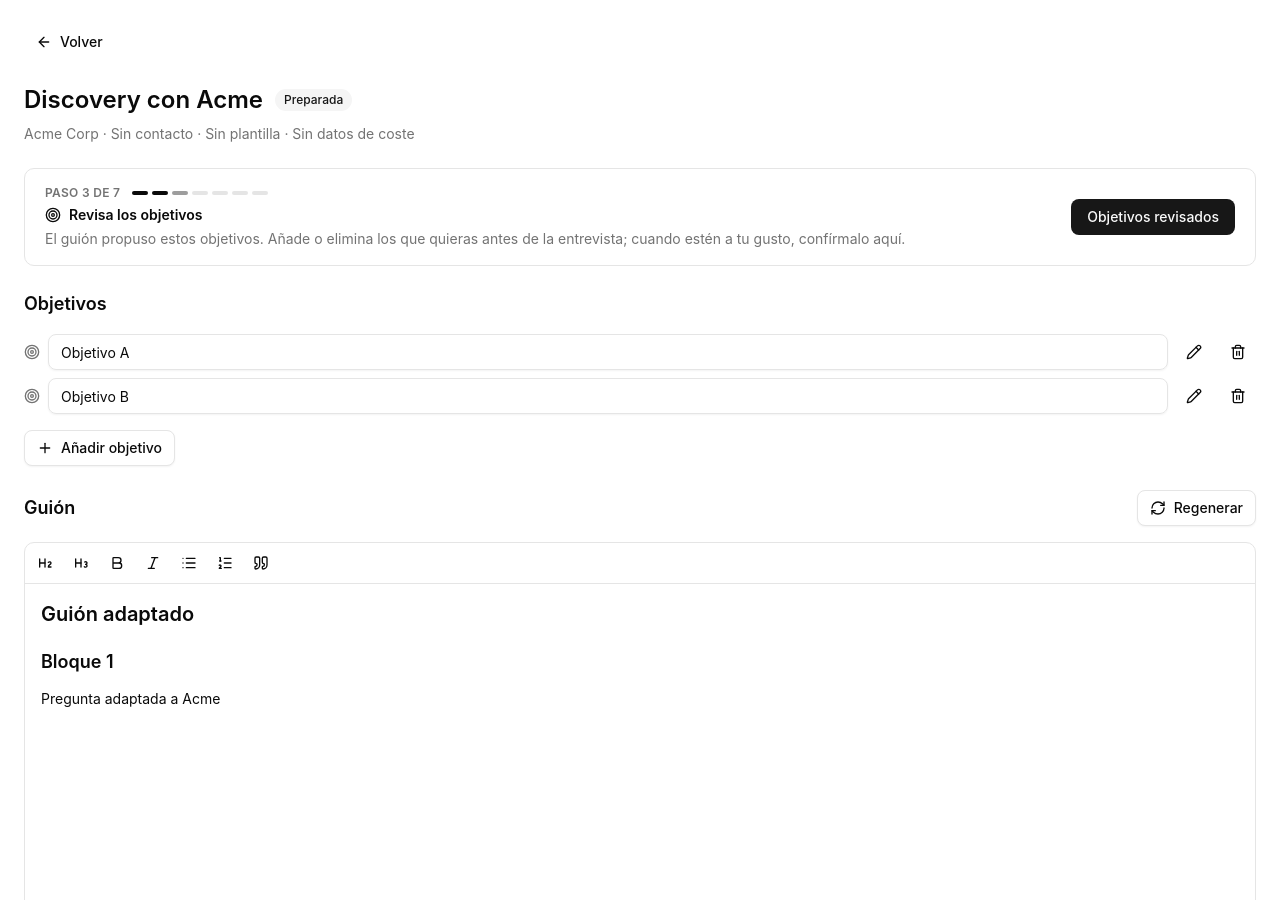
Test: ScriptSection › always-on editing (SPEC-029) › saves only the script markdown via updateInterview without status or objectives, and hides the bar keeping the editor
The width and height of the screenshot is (1280, 900).
# Cambio real vía toolbar: el primer bloque (h1) pasa a Encabezado 3
Click the button named "Encabezado 3".
click(81, 563)  # box [65,547,97,579]
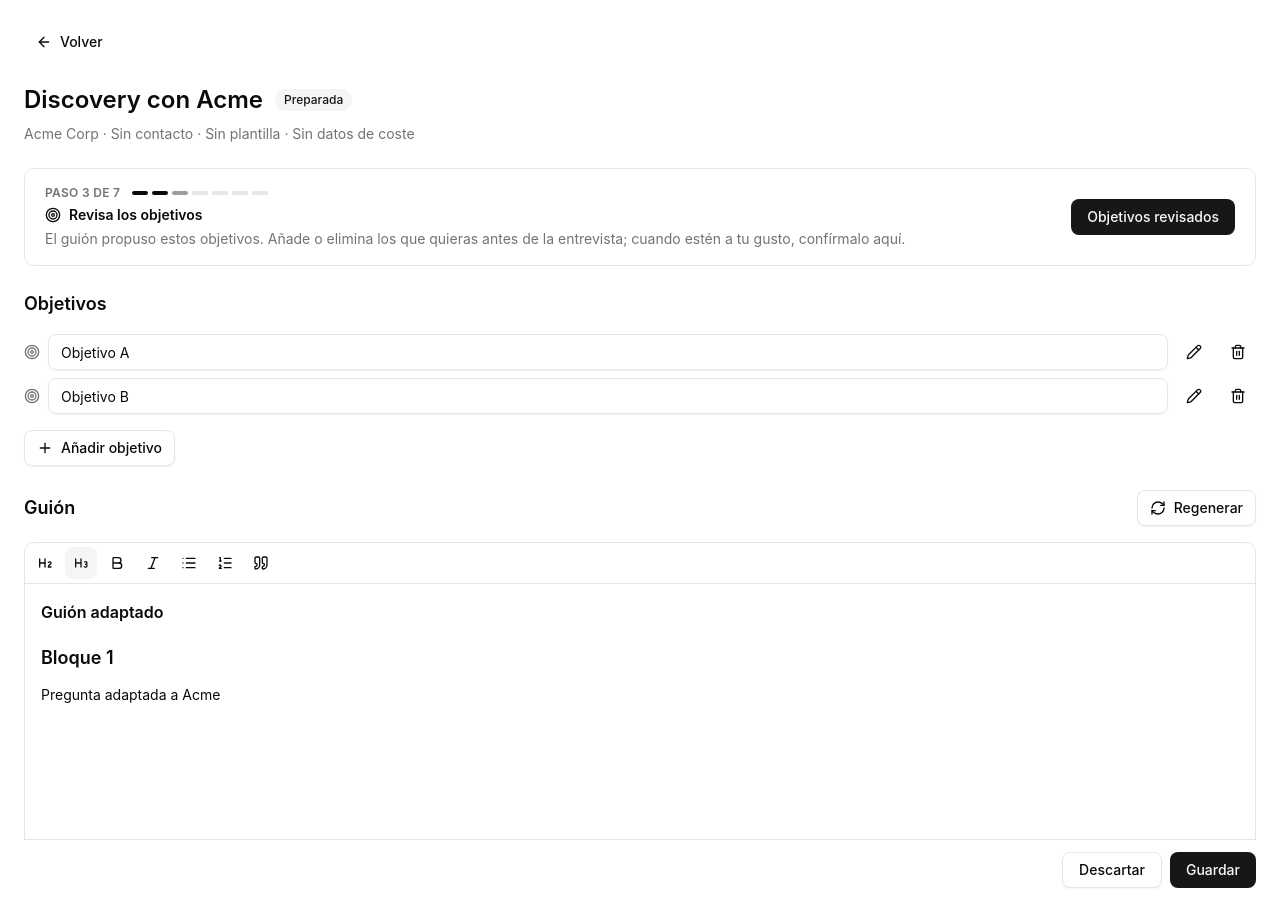
Click the button "Guardar".
click(1213, 870)  # box [1170,852,1256,888]
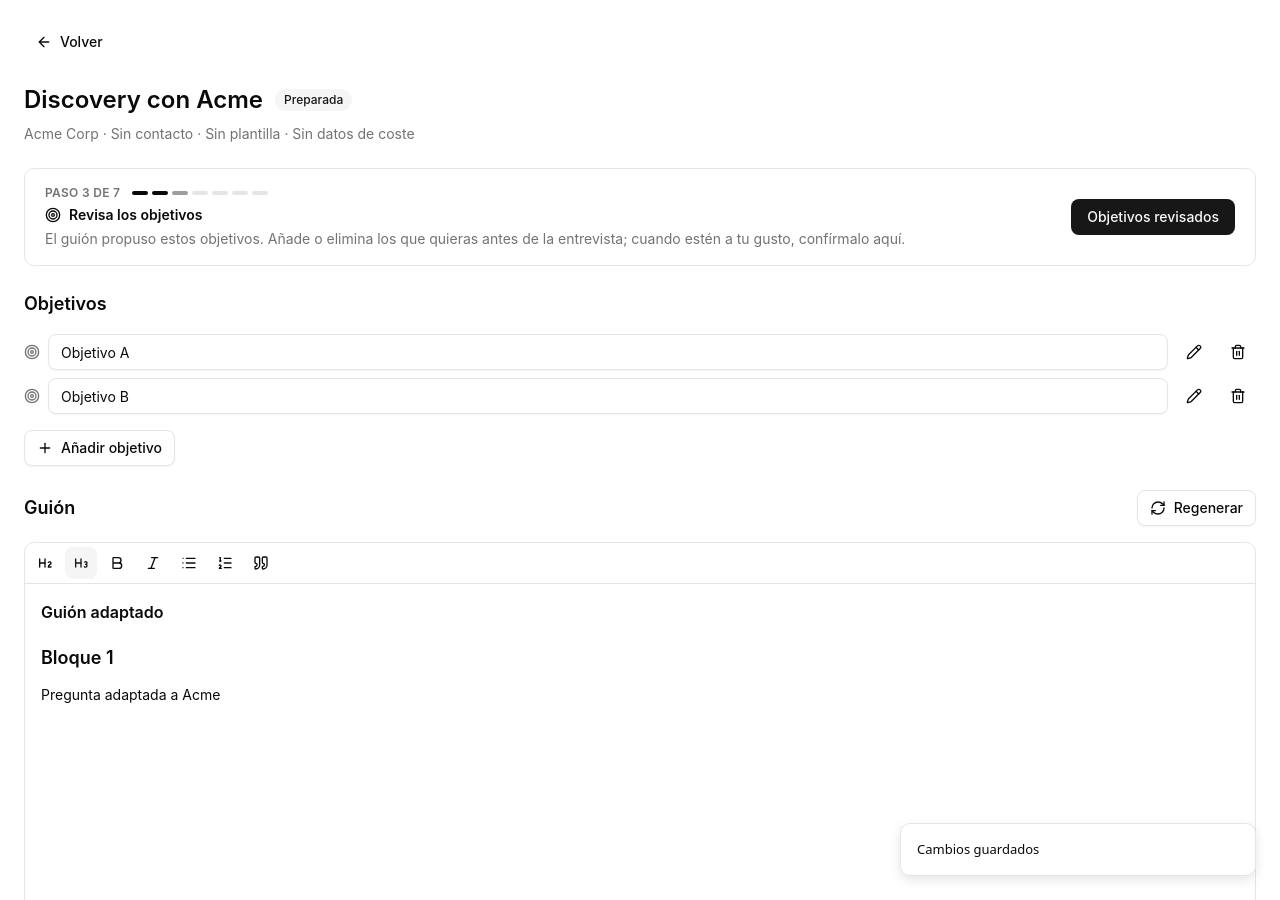
Expected: the heading "Guión adaptado" is shown, [41,602,164,622]
Expected: the element with test id "script-editor-actions" is gone
